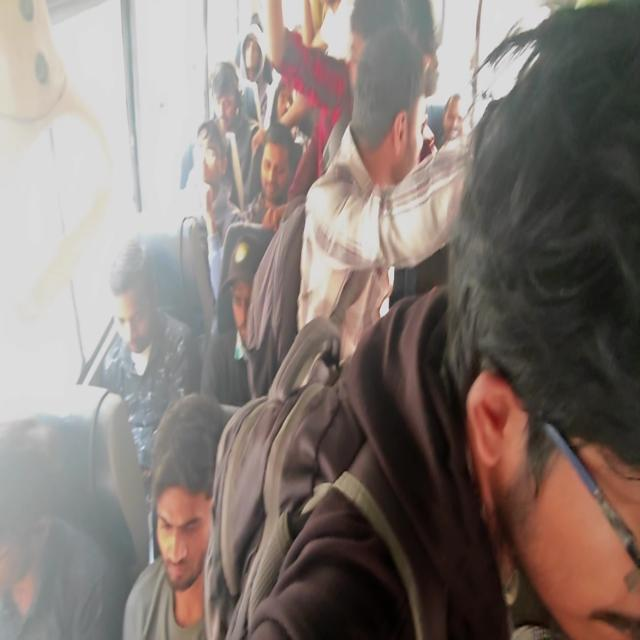person: (456, 27, 640, 640), (130, 379, 260, 640), (0, 426, 75, 639), (356, 37, 430, 183), (95, 222, 161, 375), (216, 227, 268, 353), (252, 124, 306, 218), (386, 0, 431, 77), (350, 9, 379, 100), (197, 117, 230, 185), (205, 59, 240, 122), (272, 70, 306, 134), (242, 34, 267, 82), (250, 12, 272, 38)
